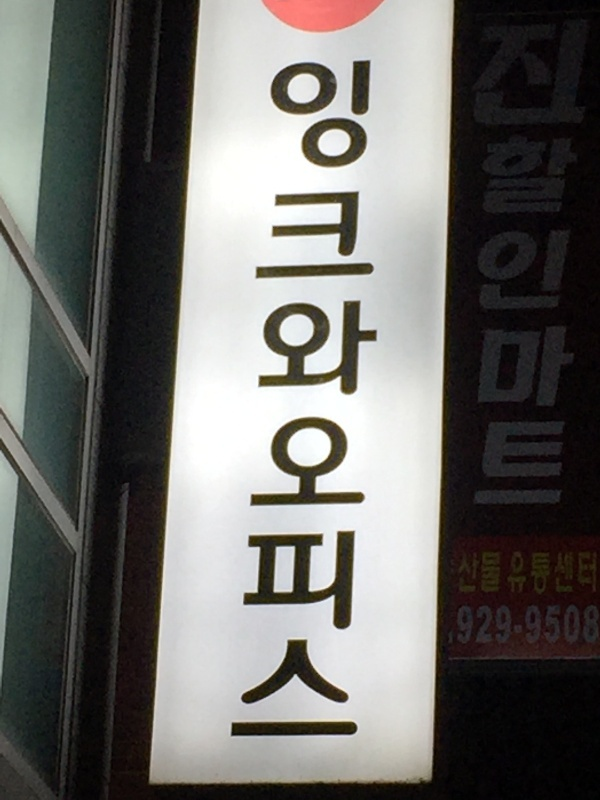text: (273, 57, 288, 741), (289, 57, 304, 741), (305, 57, 320, 741), (321, 57, 336, 741), (337, 57, 352, 741), (353, 57, 368, 741), (369, 57, 384, 741), (481, 4, 496, 511), (497, 4, 512, 511), (513, 4, 528, 511), (529, 4, 544, 511), (545, 4, 560, 511), (561, 4, 576, 511), (577, 4, 592, 511), (266, 57, 272, 741), (475, 4, 480, 511), (385, 57, 386, 741), (513, 550, 528, 595), (529, 550, 544, 595), (545, 550, 560, 595), (561, 550, 576, 595), (577, 550, 592, 595), (465, 551, 480, 595), (481, 551, 496, 595), (465, 604, 480, 646), (481, 604, 496, 646), (497, 604, 512, 646), (513, 604, 528, 646), (529, 604, 544, 646), (545, 604, 560, 646), (561, 604, 576, 646), (577, 604, 592, 646), (593, 4, 594, 511), (457, 604, 464, 646), (593, 604, 599, 646), (459, 551, 464, 595), (593, 550, 597, 595), (497, 551, 501, 595), (511, 550, 512, 595)
